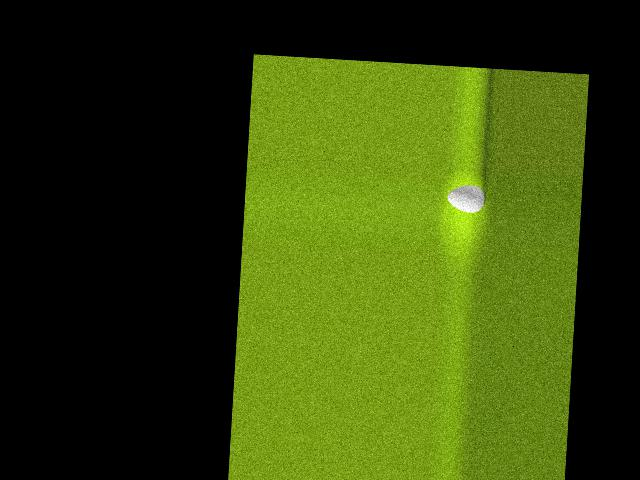egg: (446, 183, 485, 213)
